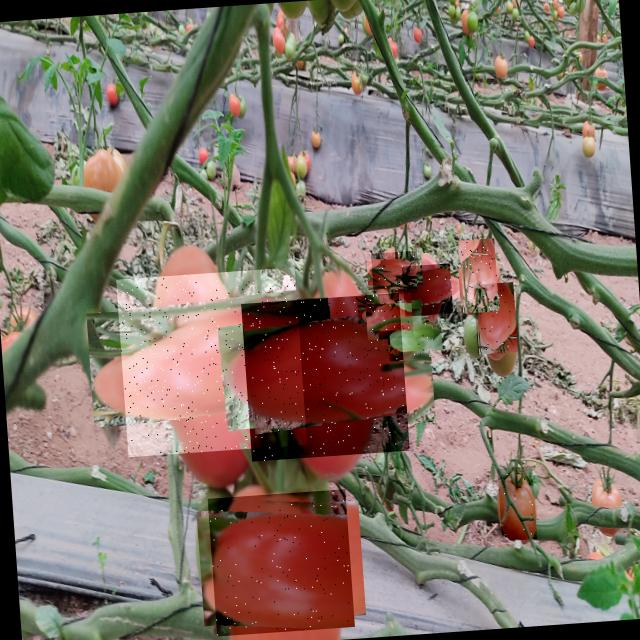Ripe Tomato: (116, 266, 306, 456), (240, 293, 410, 462), (208, 489, 354, 636), (473, 282, 518, 354), (456, 237, 498, 313), (497, 466, 537, 540), (402, 263, 452, 316), (370, 250, 418, 295)
Unripe Tomato: (364, 290, 414, 340), (386, 314, 435, 361)
